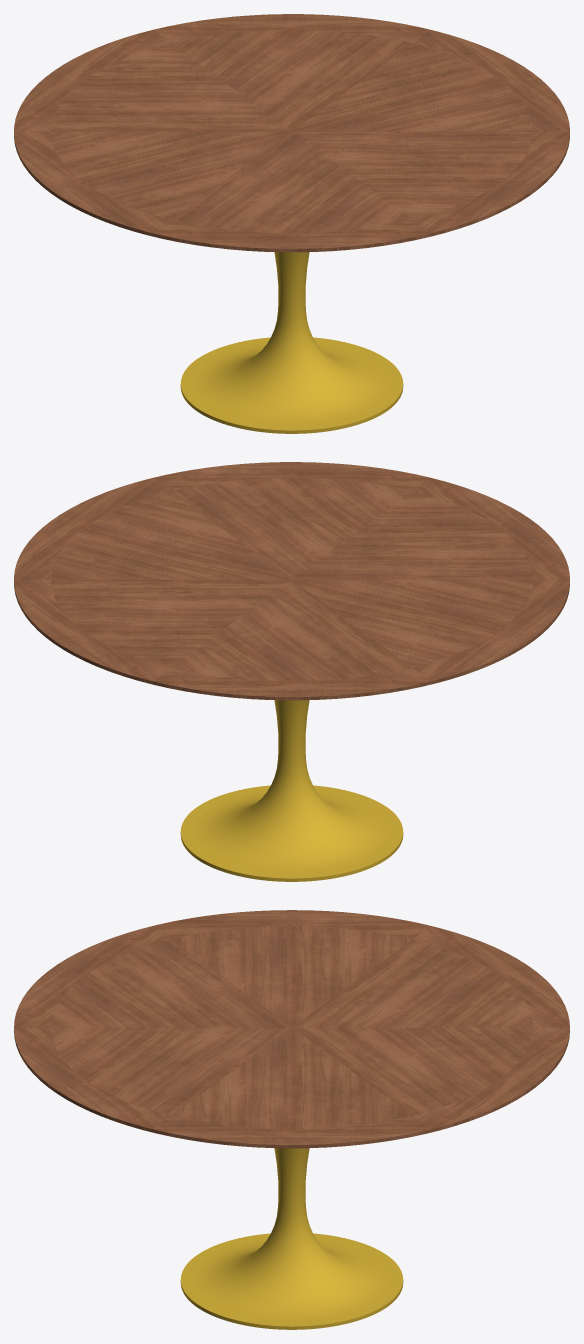
The picture shows the model from 3 angles, top to bottom: view 1: azimuth 30°, elevation 25°; view 2: azimuth 150°, elevation 25°; view 3: azimuth 270°, elevation 25°; orthographic projection.
Visible parts, largest first — view 1: root; view 2: root; view 3: root.
Boxes of the visible parts, left/top/right/bottom form: root: left=14, top=14, right=569, bottom=433; root: left=14, top=462, right=569, bottom=881; root: left=14, top=910, right=569, bottom=1329.
Bounding box in the file's own units: 1.5 × 0.76 × 1.5.
Materials: 4 (1 with a texture image).
